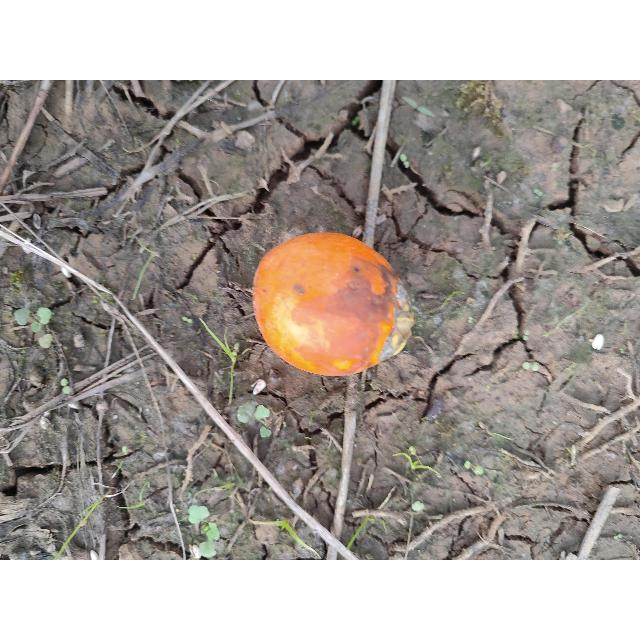good: (252, 233, 416, 378)
